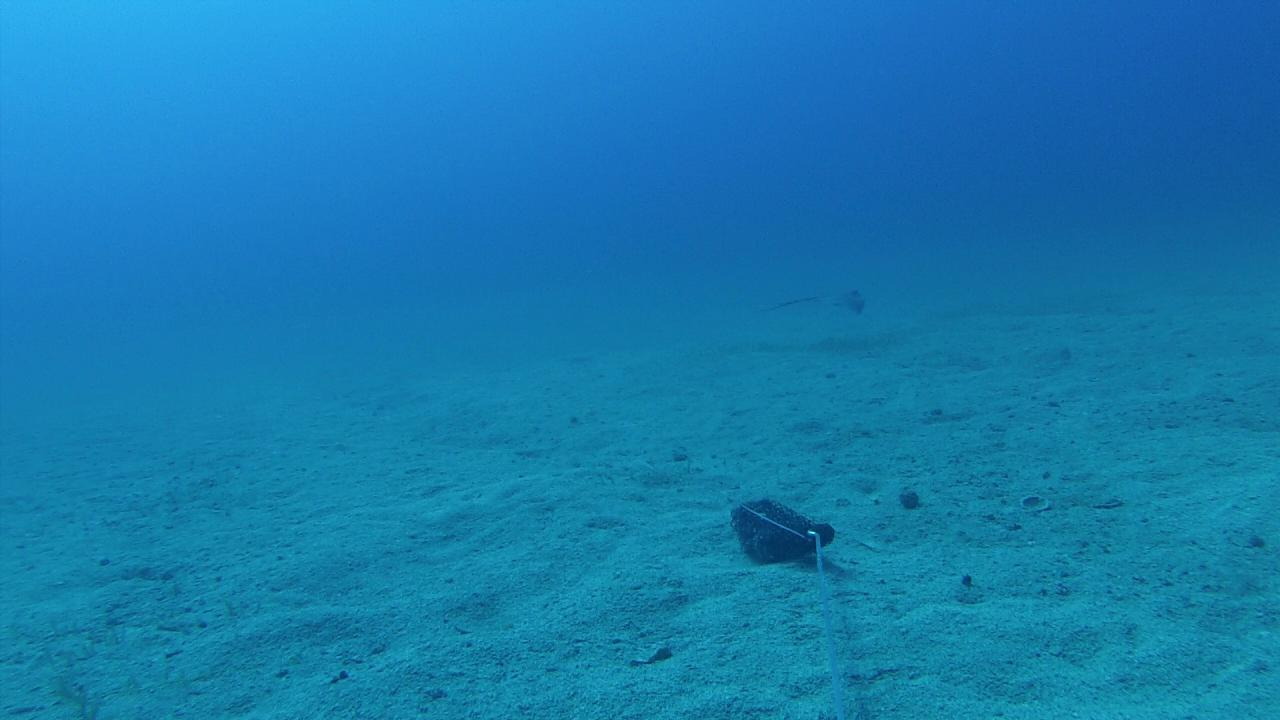dasyatis: (764, 284, 866, 314)
